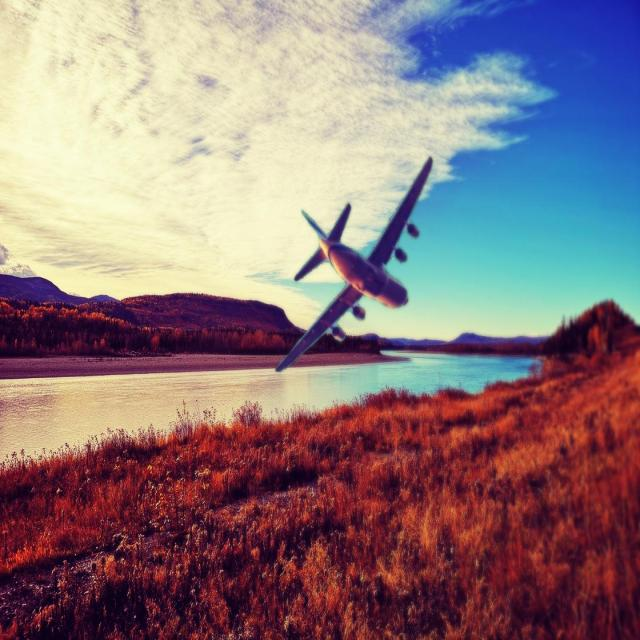airplane: (273, 155, 433, 372)
